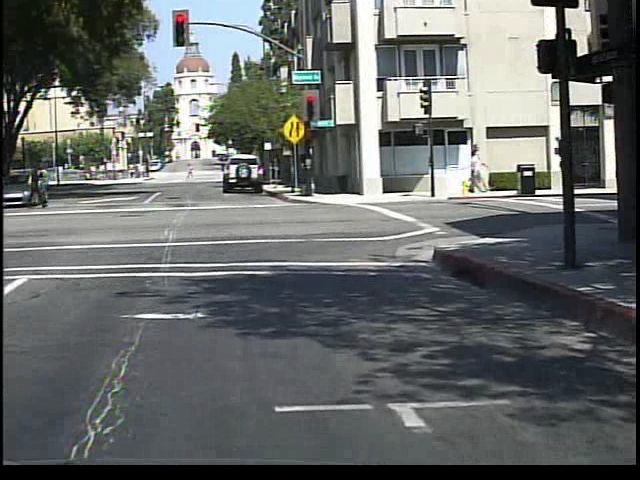person: (7, 168, 34, 222), (28, 165, 51, 208), (188, 163, 198, 180)
